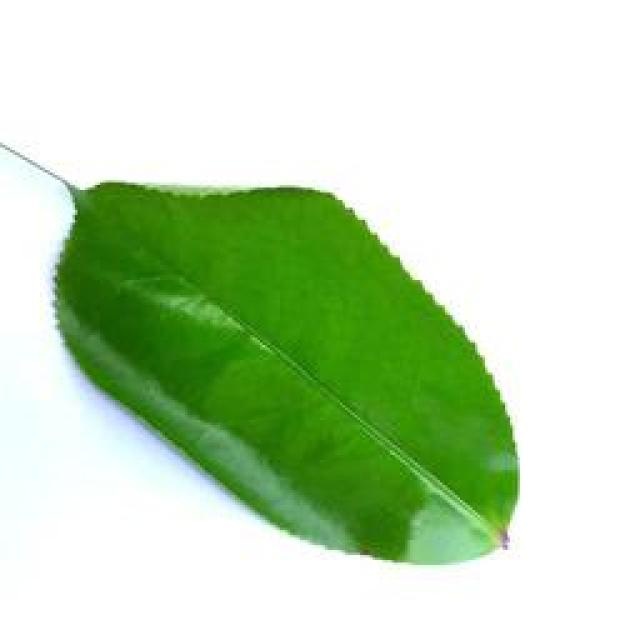Healthy: (44, 160, 528, 576)
